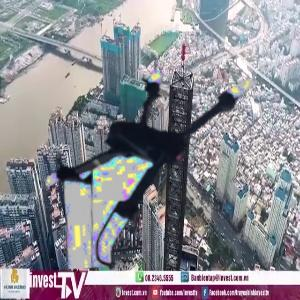drone: (44, 36, 273, 265)
